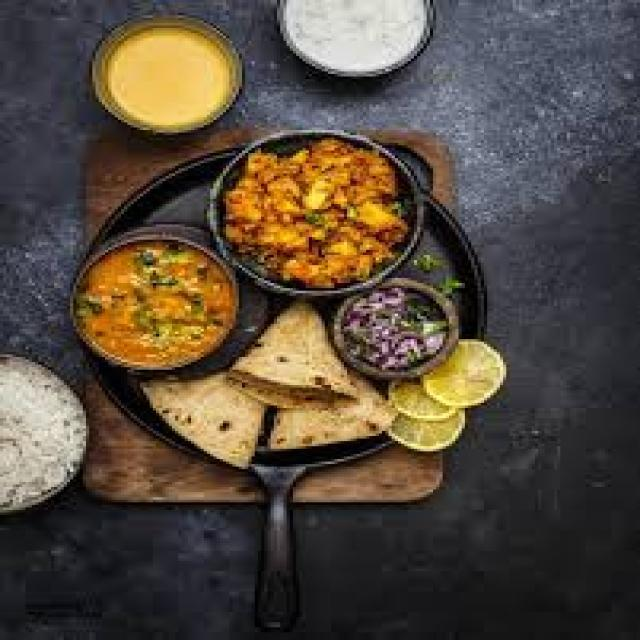dal: (63, 241, 236, 372), (92, 22, 252, 133)
papad: (181, 308, 408, 443)
rice: (218, 133, 414, 296), (274, 0, 436, 81), (0, 361, 85, 507)
veg-fry: (219, 135, 414, 292)
